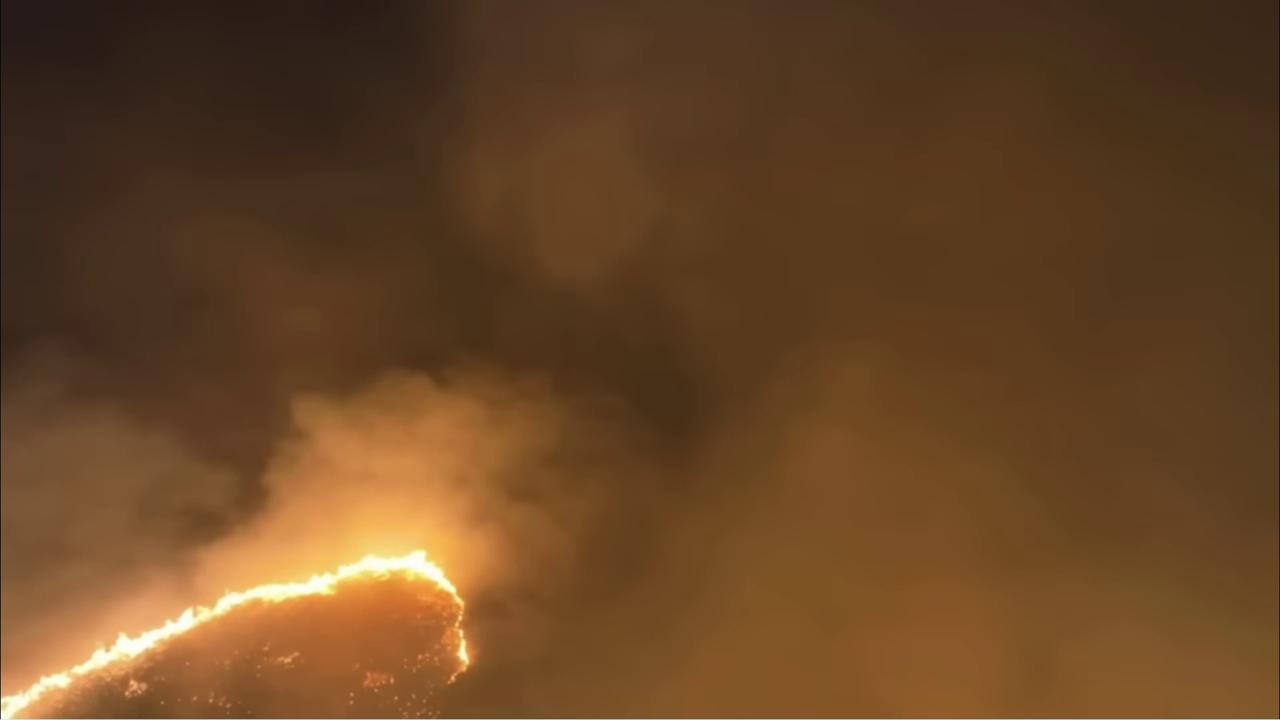fire: (0, 546, 476, 720)
smoke: (0, 0, 1280, 720)
